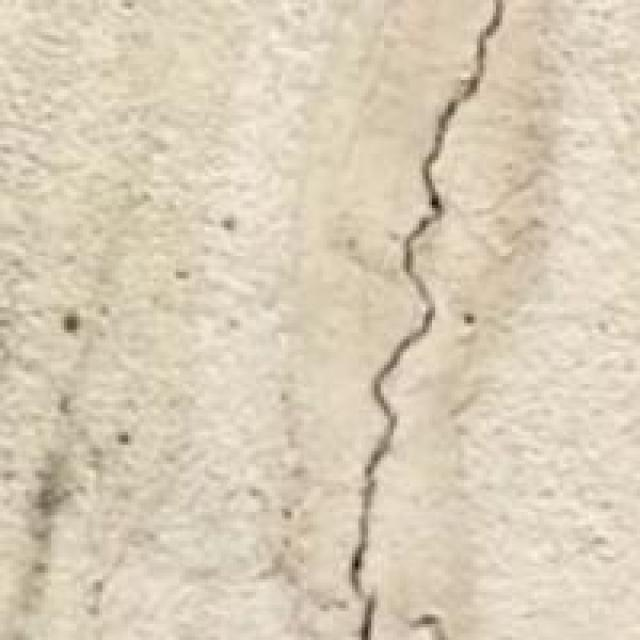Crack: (330, 6, 538, 637)
